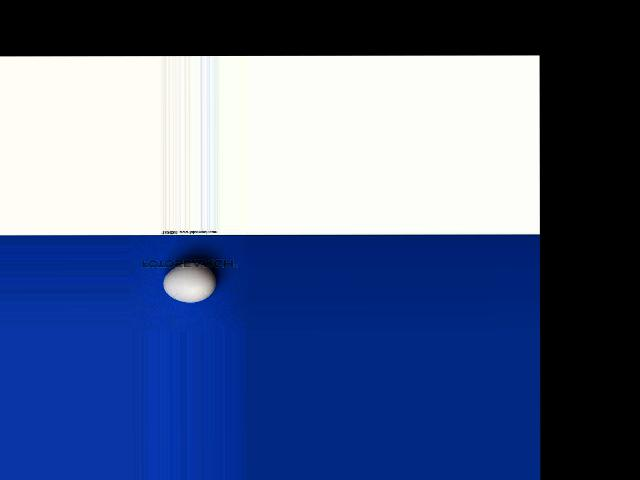egg: (163, 261, 216, 302)
